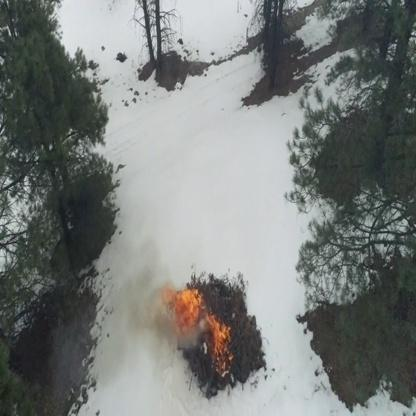Fire: (215, 322, 233, 379), (163, 288, 205, 309), (179, 308, 197, 328), (206, 312, 220, 325)
